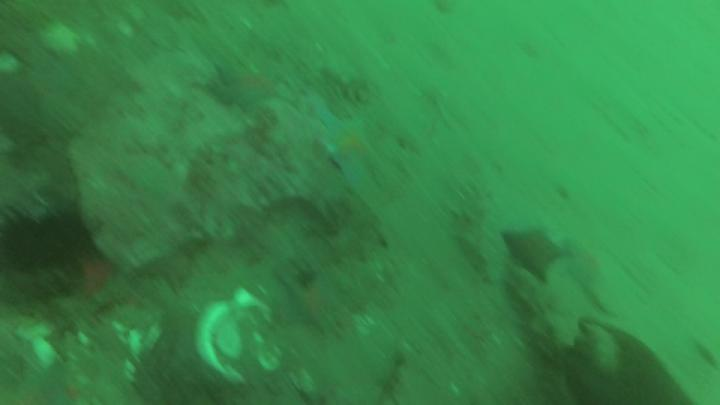echinus: (1, 215, 66, 271)
holothurian: (453, 181, 502, 281), (69, 283, 128, 332)
scallop: (196, 291, 283, 382)
starfish: (317, 110, 373, 182), (275, 269, 335, 331), (500, 225, 564, 282), (210, 63, 280, 108)
